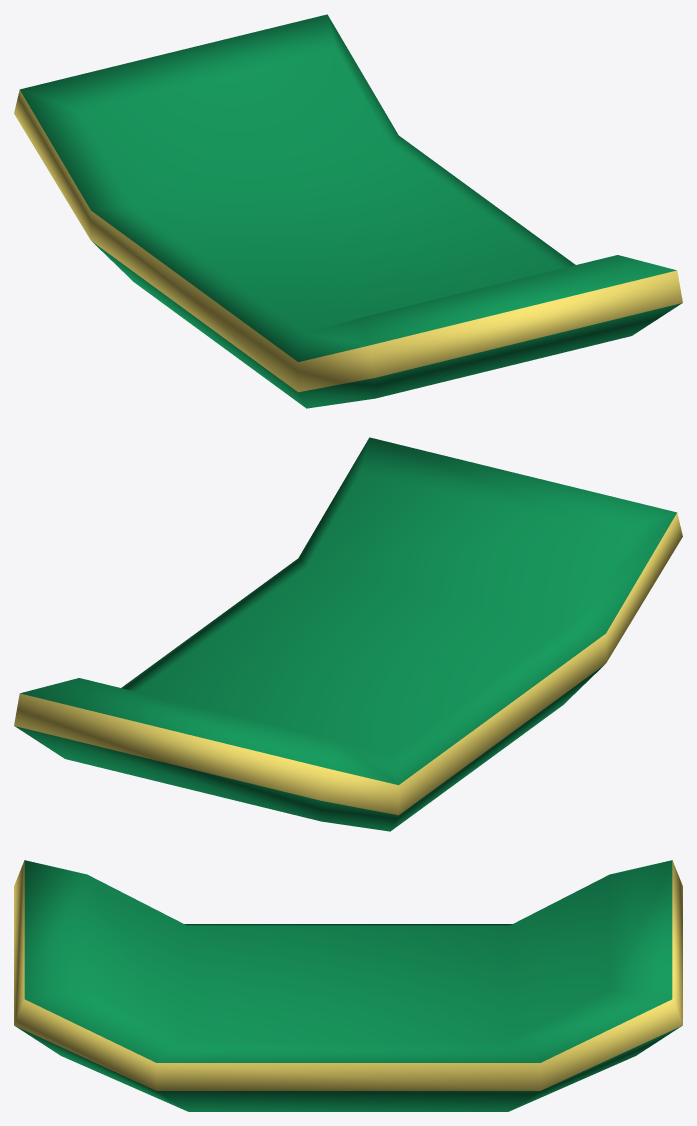
Rendered from board.fbx.
3 renders of one model, top to bottom at view 1: azimuth 30°, elevation 25°; view 2: azimuth 150°, elevation 25°; view 3: azimuth 270°, elevation 25°, orthographic. The views are drawn at different scales.
Parts seen in each view (by area): view 1: board; view 2: board; view 3: board.
Boxes of the visible parts, box(x1,y1,x2,y2) form: board: box(14, 14, 682, 408); board: box(14, 437, 682, 831); board: box(14, 860, 682, 1111).
Bounding box in the file's own units: 120 × 49.98 × 244.
